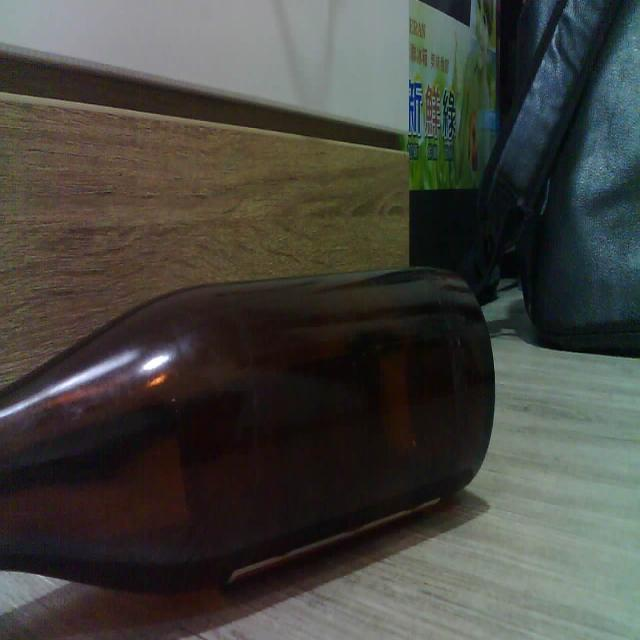bottle: (0, 268, 494, 590)
